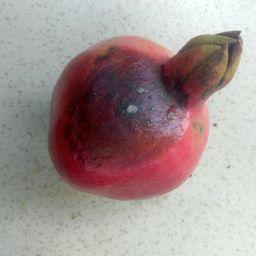pomegranate: (46, 31, 244, 202)
